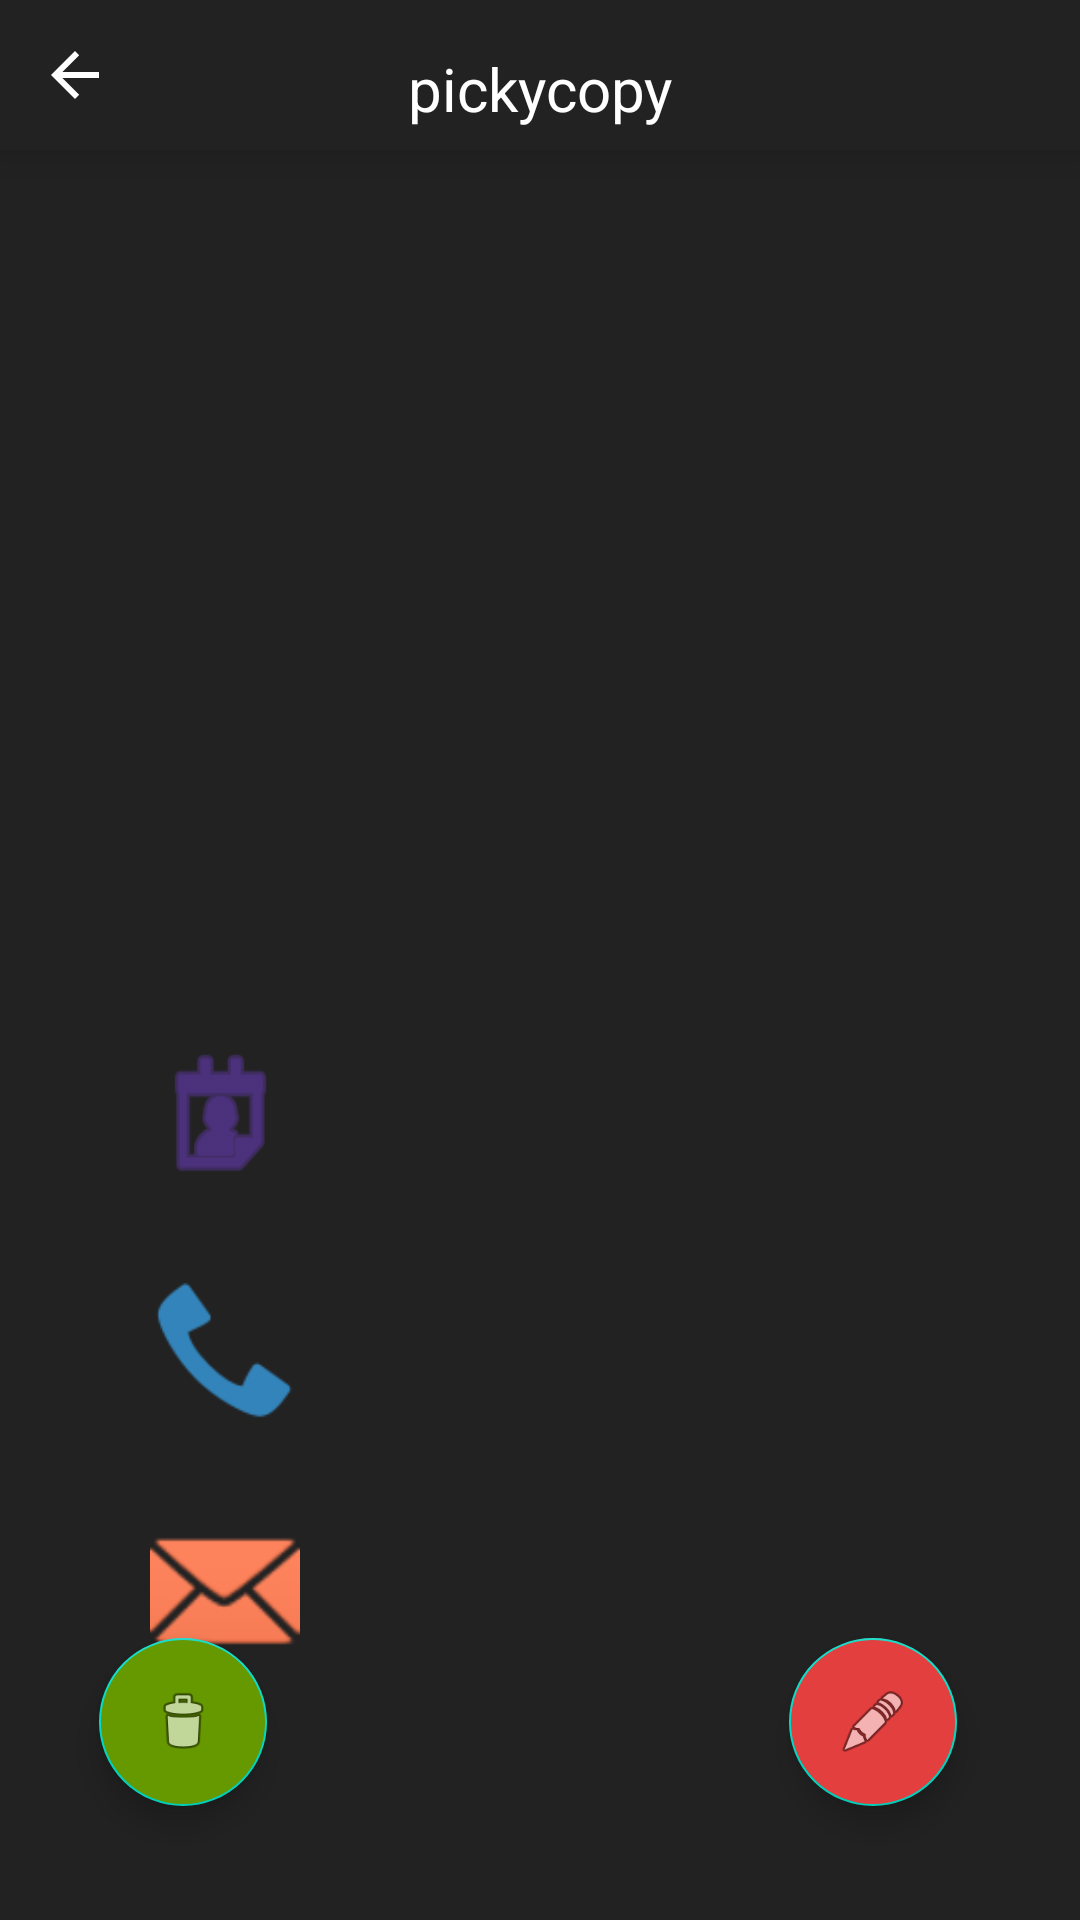

Icons on this 1080w x 1920h Android screen, each with the point to tap as point (x, y):
delete: point (183, 1722)
edit: point (873, 1722)
email: point (225, 1586)
phone call: point (224, 1350)
